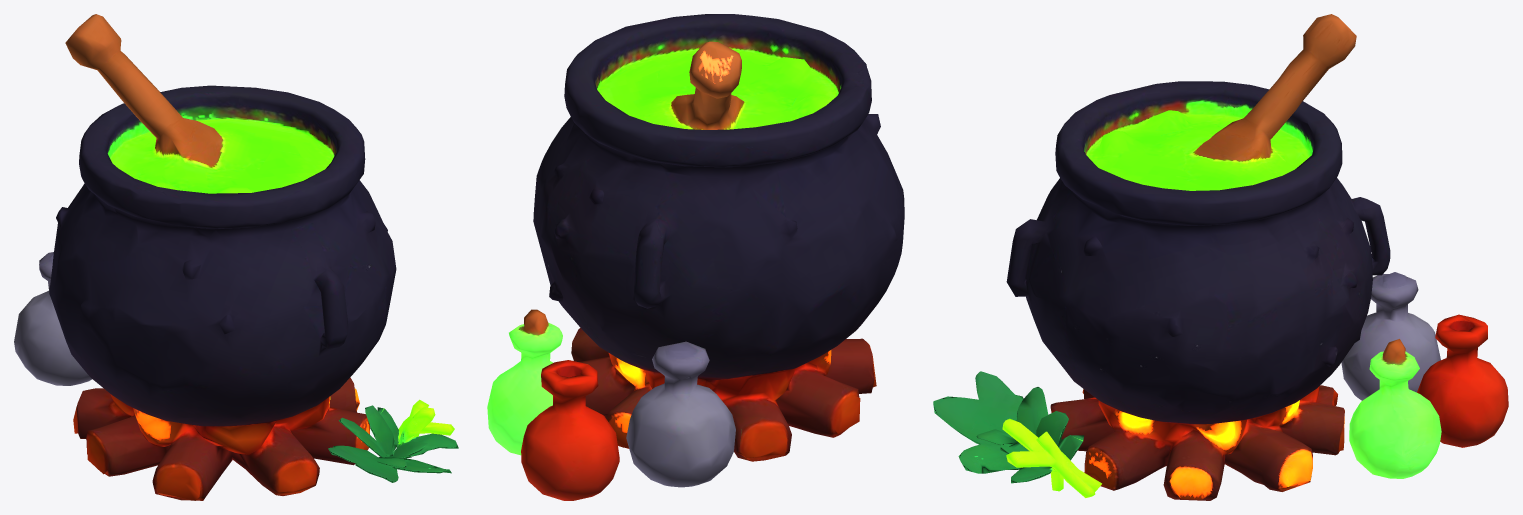
Rendered from witch_cauldron-CjOGHtld.glb.
The picture shows the model from 3 angles, left to right: view 1: azimuth 30°, elevation 25°; view 2: azimuth 150°, elevation 25°; view 3: azimuth 270°, elevation 25°; orthographic projection. The views are drawn at different scales.
Visible parts, largest first — view 1: tripo_node_3871bb7d-9b81-45df-8932-7901a7f49efa; view 2: tripo_node_3871bb7d-9b81-45df-8932-7901a7f49efa; view 3: tripo_node_3871bb7d-9b81-45df-8932-7901a7f49efa.
Boxes of the visible parts, box(x1,y1,x2,y2) form: tripo_node_3871bb7d-9b81-45df-8932-7901a7f49efa: box(14, 14, 458, 500); tripo_node_3871bb7d-9b81-45df-8932-7901a7f49efa: box(487, 14, 904, 500); tripo_node_3871bb7d-9b81-45df-8932-7901a7f49efa: box(933, 14, 1508, 500).
Size of the model in its own units: 0.619 by 0.7634 by 1.
1 material, 1 textured.
